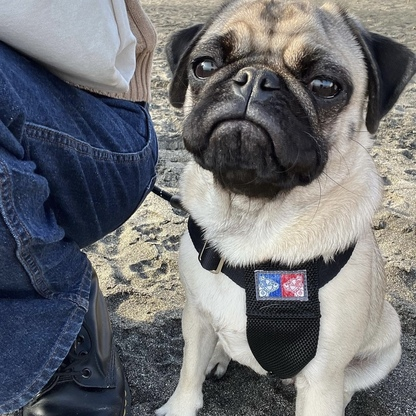Pug: (141, 1, 416, 416)
